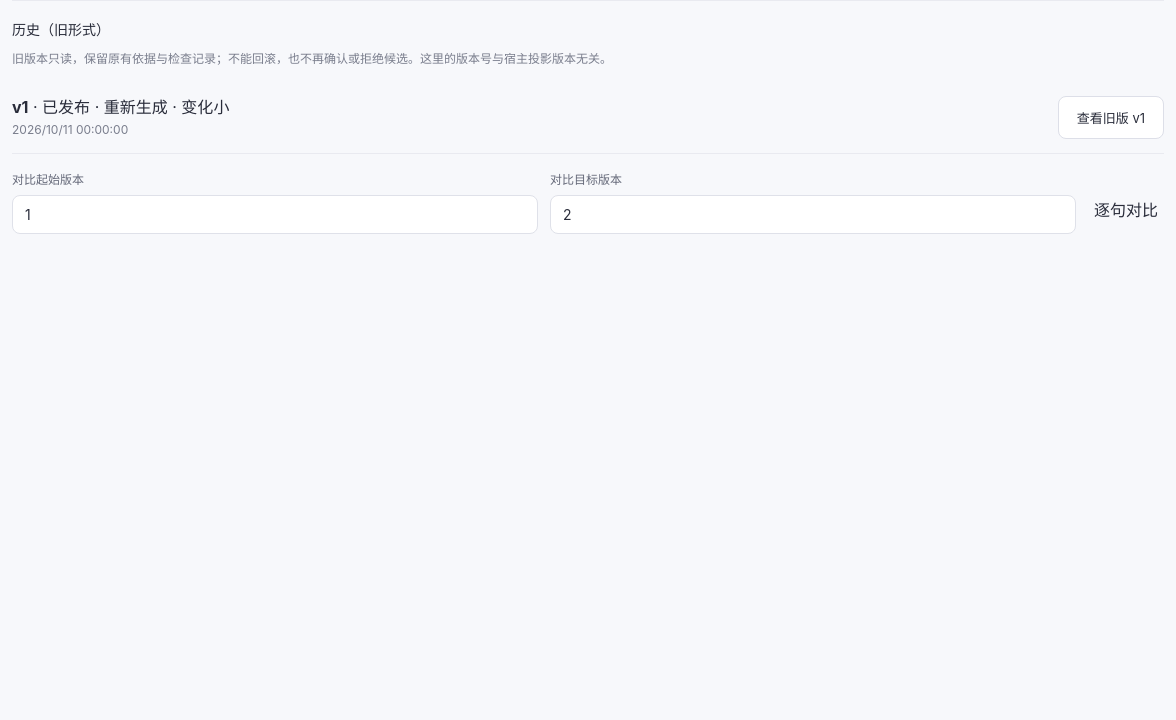
Test: 删条阈值按版本说明，任务摘要不误用旧版 30%
Click the button "查看旧版 v1": click(1111, 118) [1058,96,1164,139]
(page scrolled)
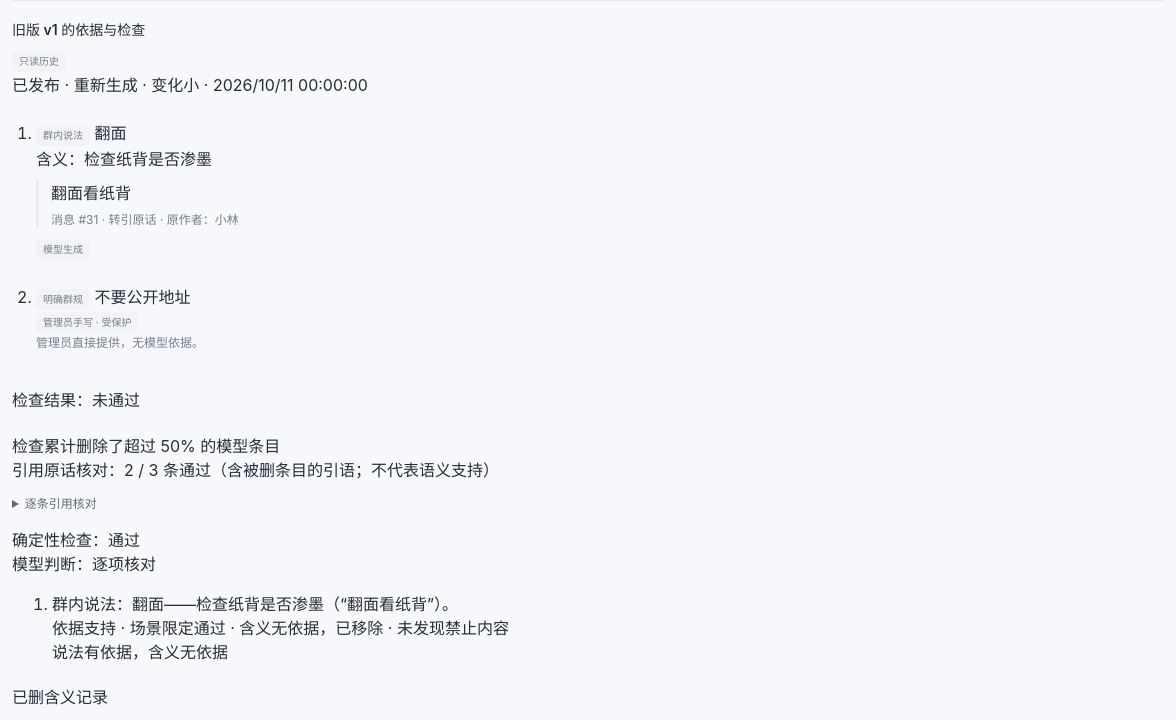
Now the text "检查累计删除了超过 50% 的模型条目" is shown, box [12,436,280,456]
